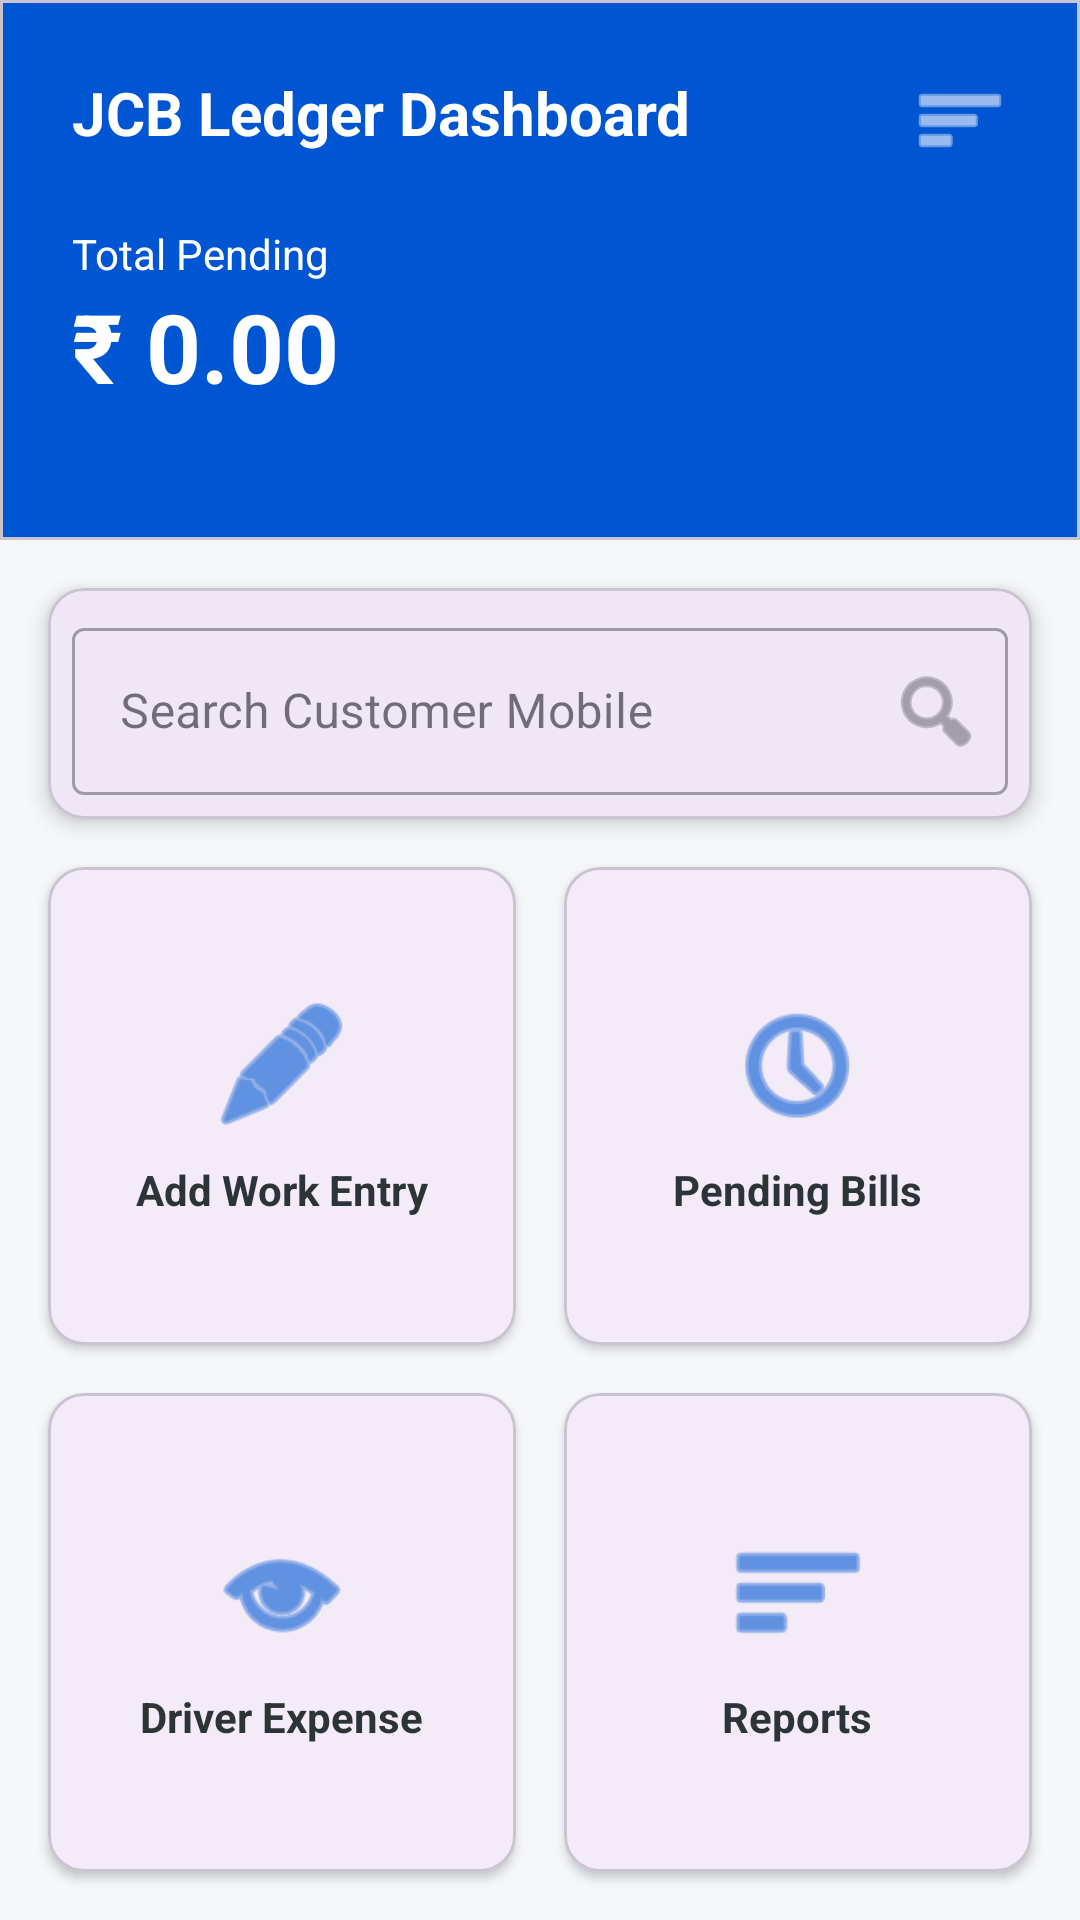

Icon click points for this 1080w x 1920h phone screenshot, format point (x, y):
edit: point (281, 1064)
recent history: point (797, 1066)
view: point (282, 1596)
